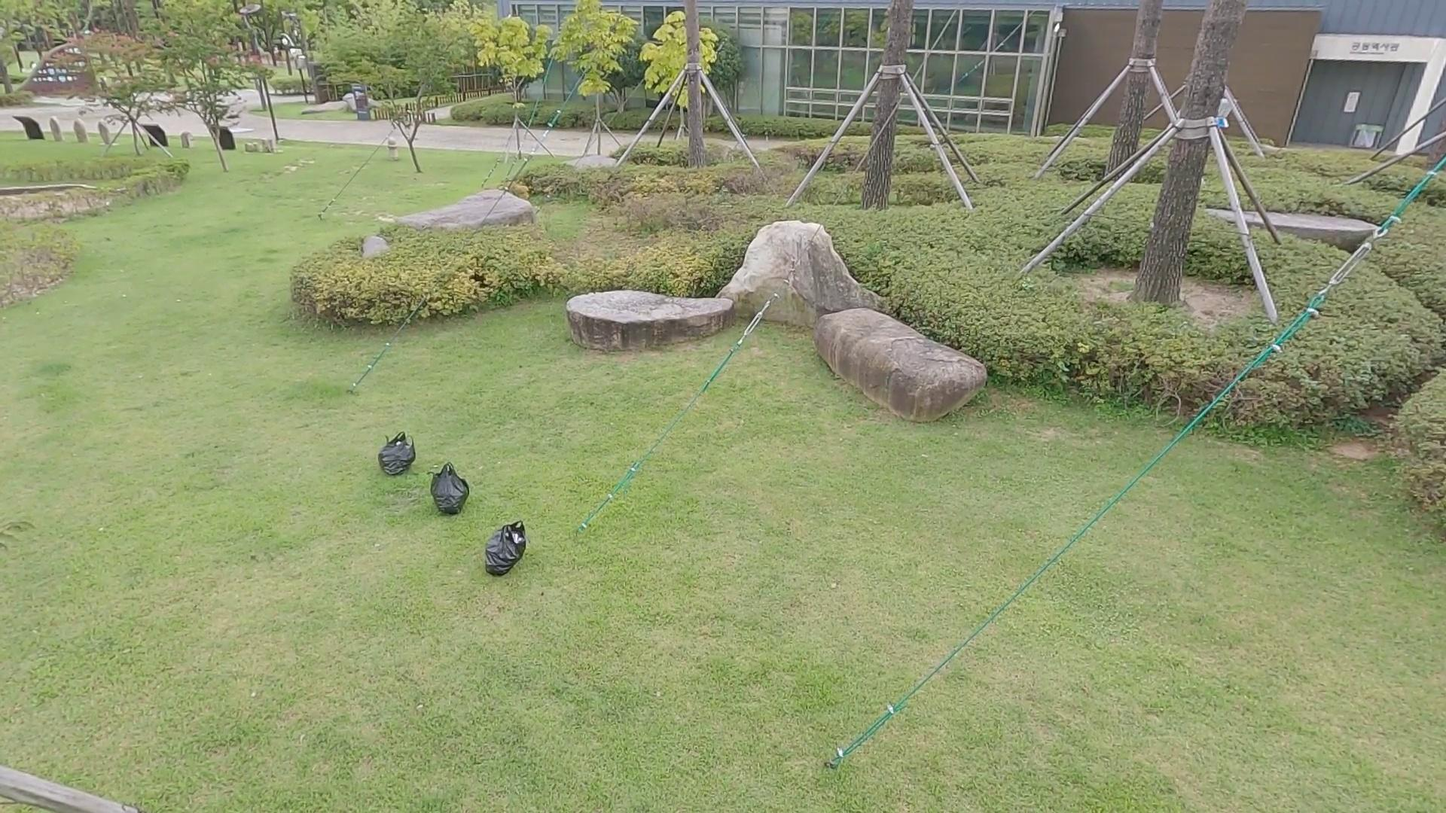trash: (486, 519, 527, 579), (430, 461, 469, 516), (377, 430, 417, 476)
